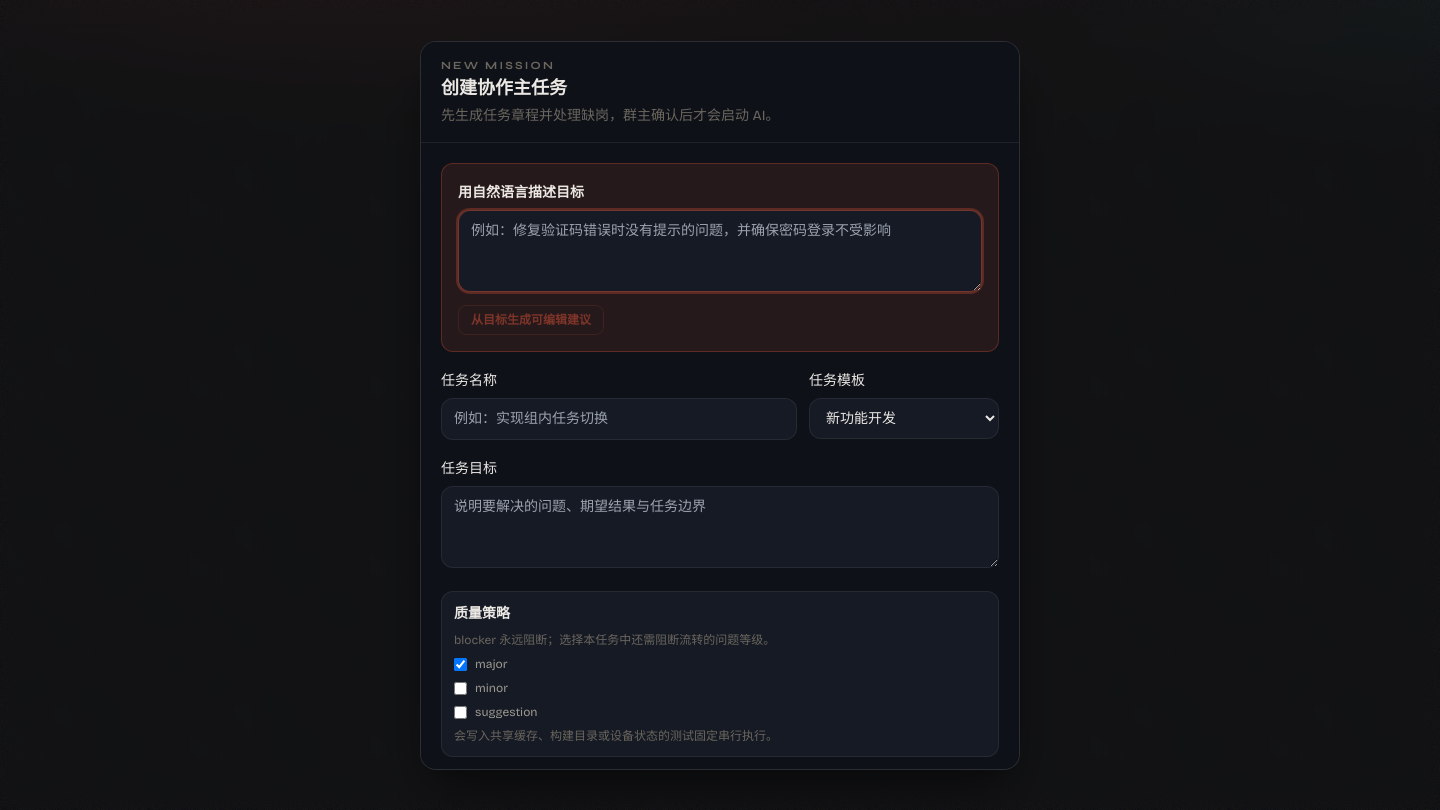
it: TaskSessionCreateModal mission charter › fills an editable charter from a natural-language goal
Type "修复验证码错误时没有提示的问题" into the text box labelled "用自然语言描述目标" at (720, 251), box x1=458 y1=210 x2=982 y2=292
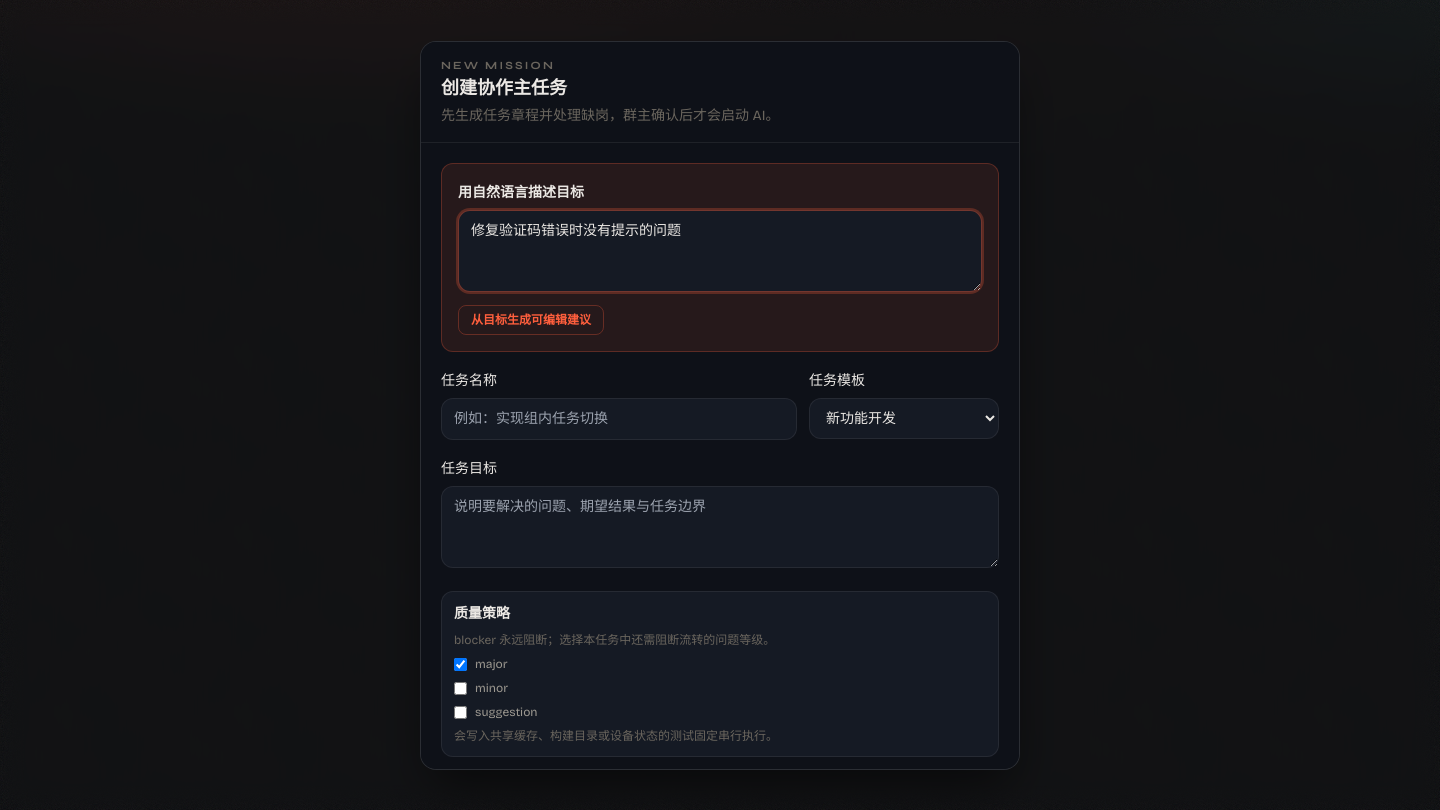
Click the button "从目标生成可编辑建议" at (531, 320), box x1=458 y1=305 x2=604 y2=335
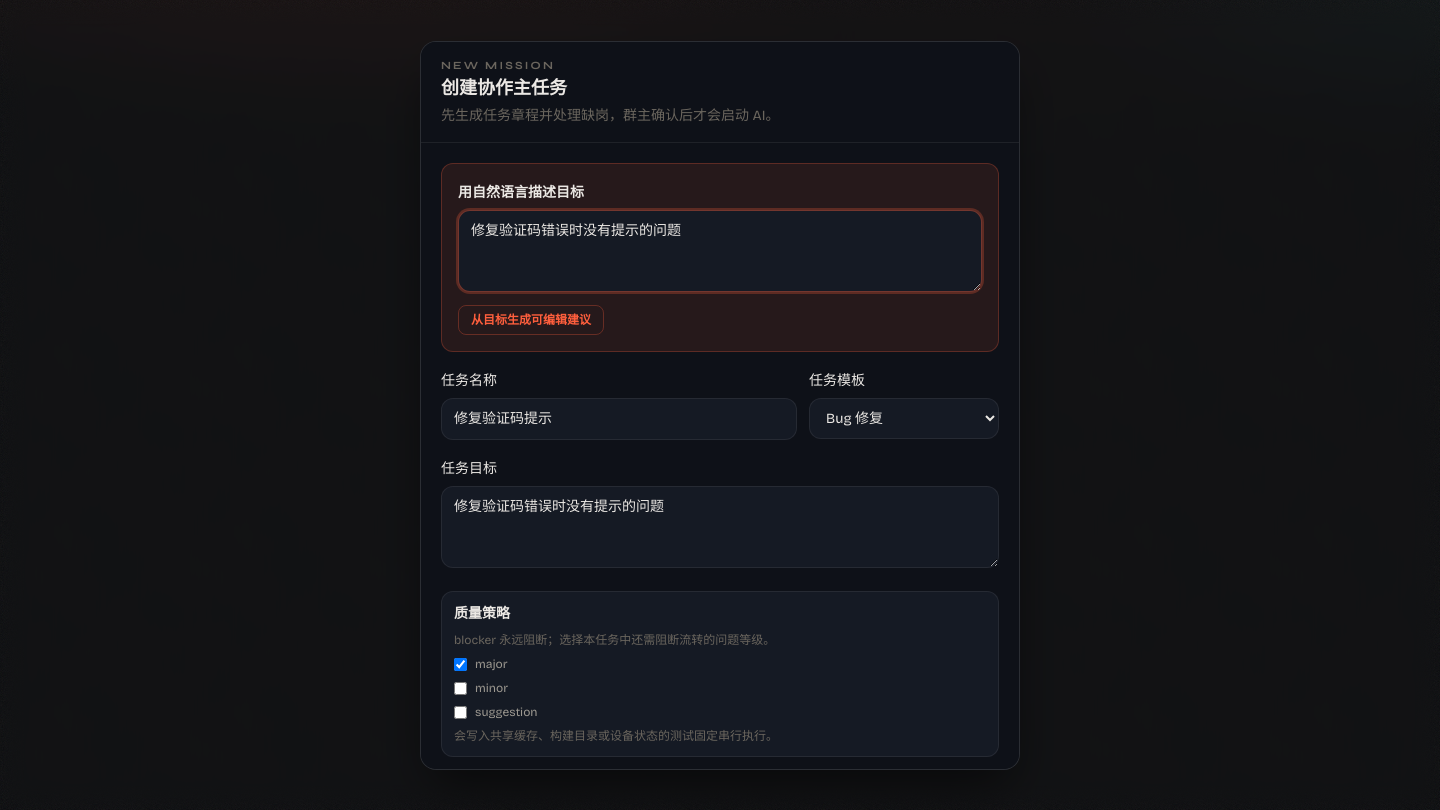
Check: the field labelled "任务名称" holds "修复验证码提示", box x1=441 y1=398 x2=797 y2=440
Check: the dropdown labelled "任务模板" shows "Bug 修复", box x1=809 y1=398 x2=999 y2=439
